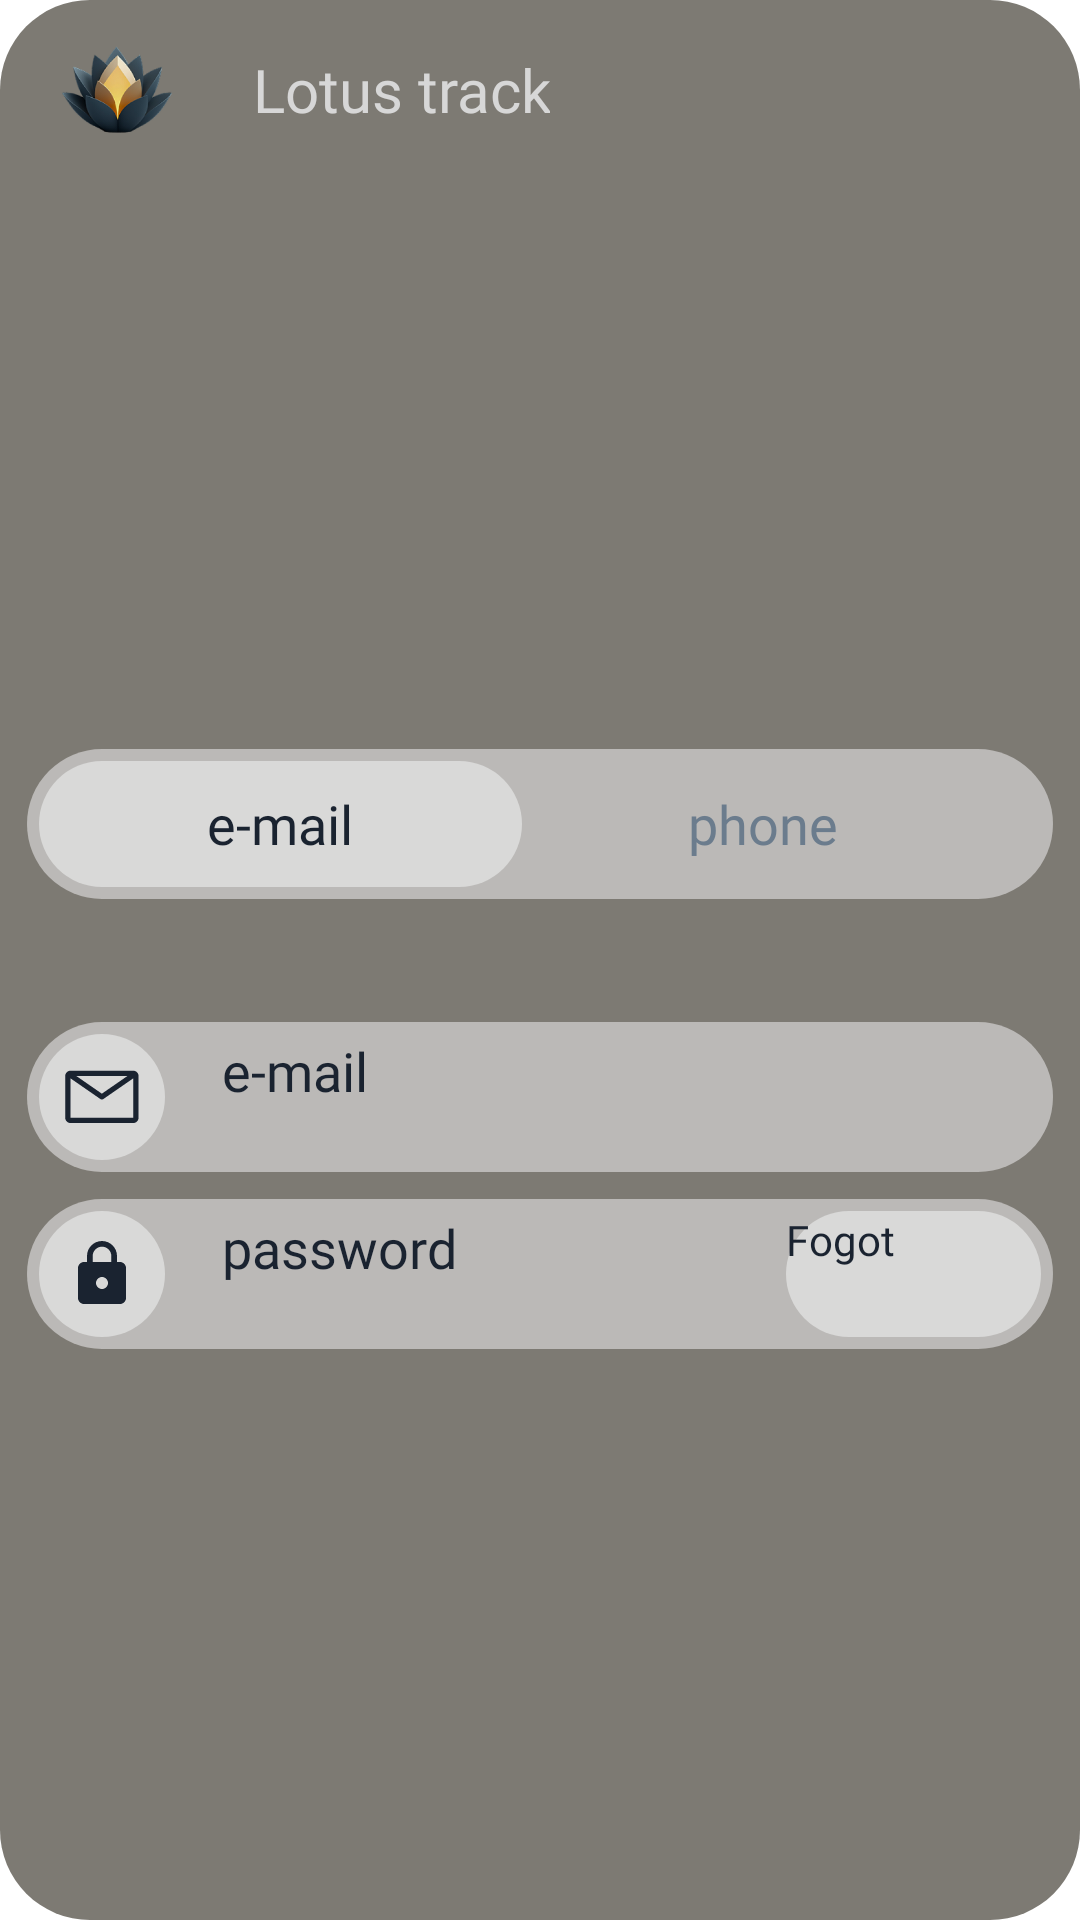

Icons on this 1080w x 1920h Android screen, each with the point to tap as point (x, y):
lock: point (102, 1272)
